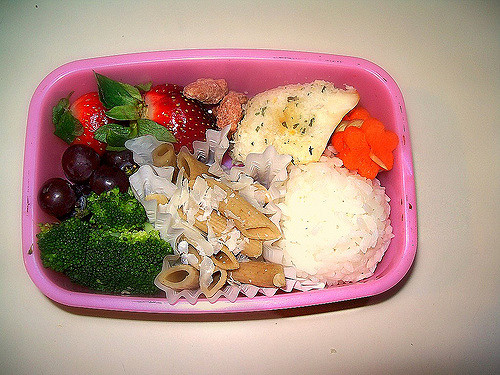plain rice: (279, 161, 381, 281)
